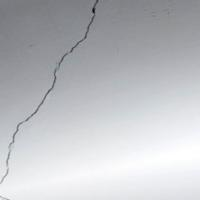crack: (0, 0, 106, 185)
